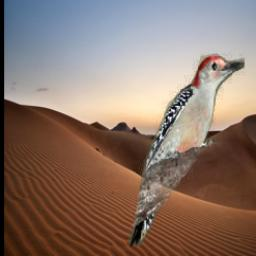Woodpecker: (129, 54, 245, 248)
